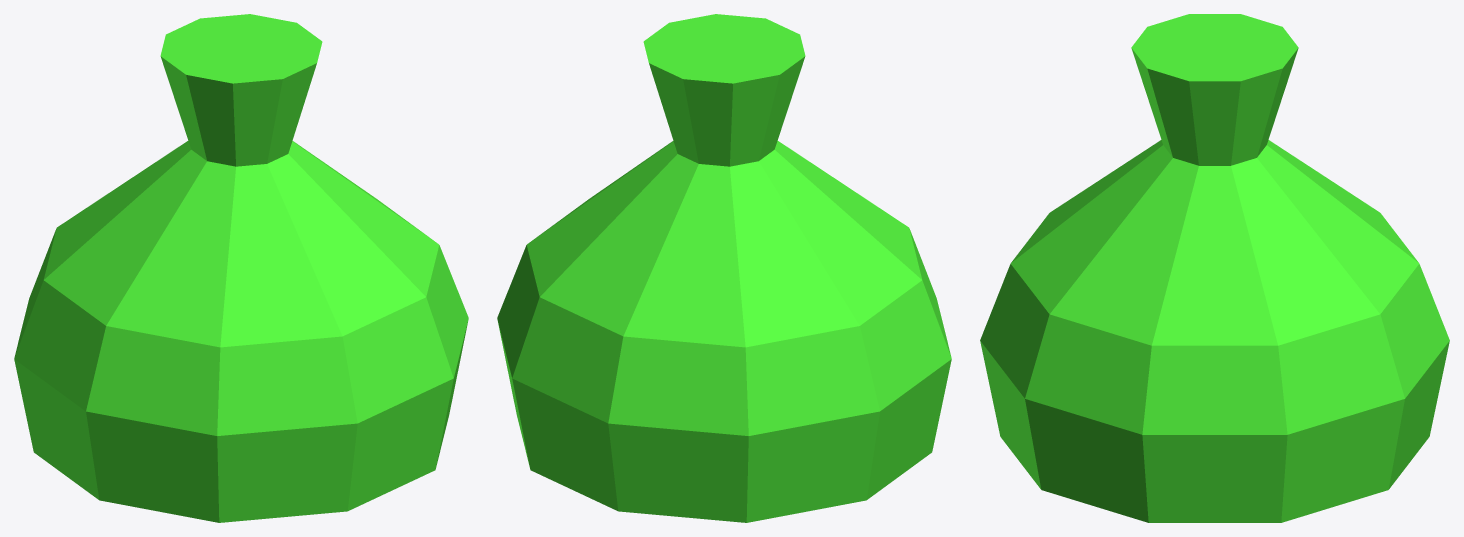
Rendered from jarron.fbx.
The picture shows the model from 3 angles, left to right: view 1: azimuth 30°, elevation 25°; view 2: azimuth 150°, elevation 25°; view 3: azimuth 270°, elevation 25°; orthographic projection.
Parts seen in each view (by area): view 1: jarron; view 2: jarron; view 3: jarron.
Boxes of the visible parts, bbox=[...] form: jarron: bbox=[14, 14, 468, 522]; jarron: bbox=[497, 14, 951, 522]; jarron: bbox=[980, 14, 1449, 522].
Bounding box in the file's own units: 28.16 × 27.05 × 29.6.
